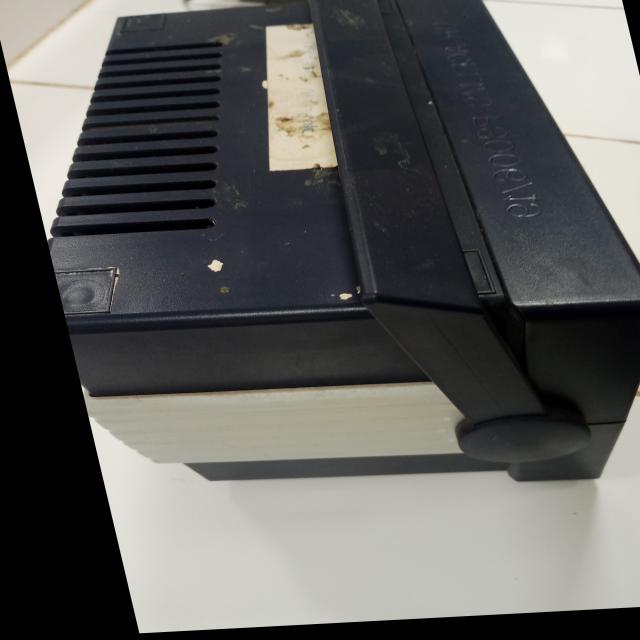Cobra 4 Xpert link Power Supply: (5, 0, 640, 521)
